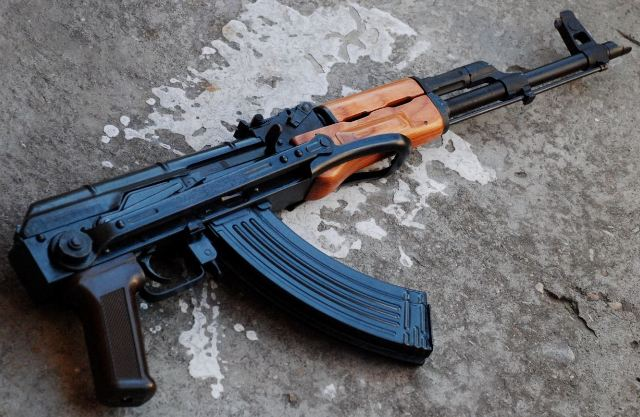Arma Real: (14, 9, 628, 395)
